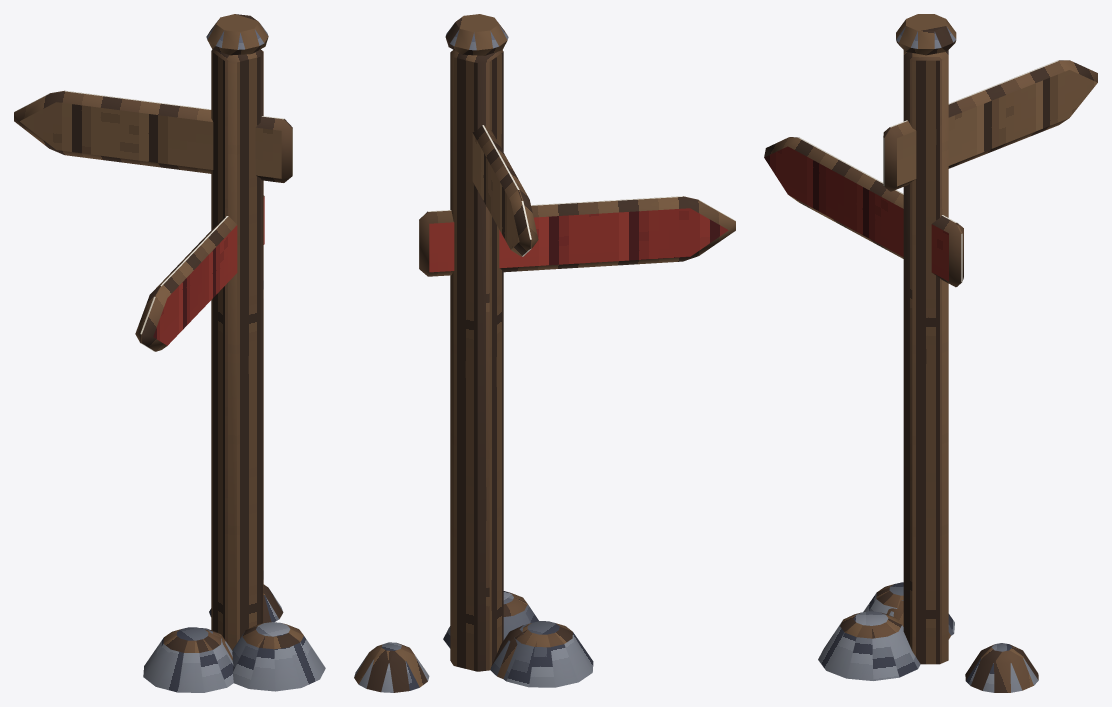
File: signpost_2.glb
The picture shows the model from 3 angles, left to right: view 1: azimuth 30°, elevation 25°; view 2: azimuth 150°, elevation 25°; view 3: azimuth 270°, elevation 25°; orthographic projection.
Parts seen in each view (by area): view 1: signpost_3; view 2: signpost_3; view 3: signpost_3.
Boxes of the visible parts, <box> form: signpost_3: <box>14,14,325,692</box>; signpost_3: <box>354,14,735,692</box>; signpost_3: <box>764,14,1097,692</box>.
Bounding box in the file's own units: 0.9168 × 2.17 × 1.04.
6 materials, 6 textured.
